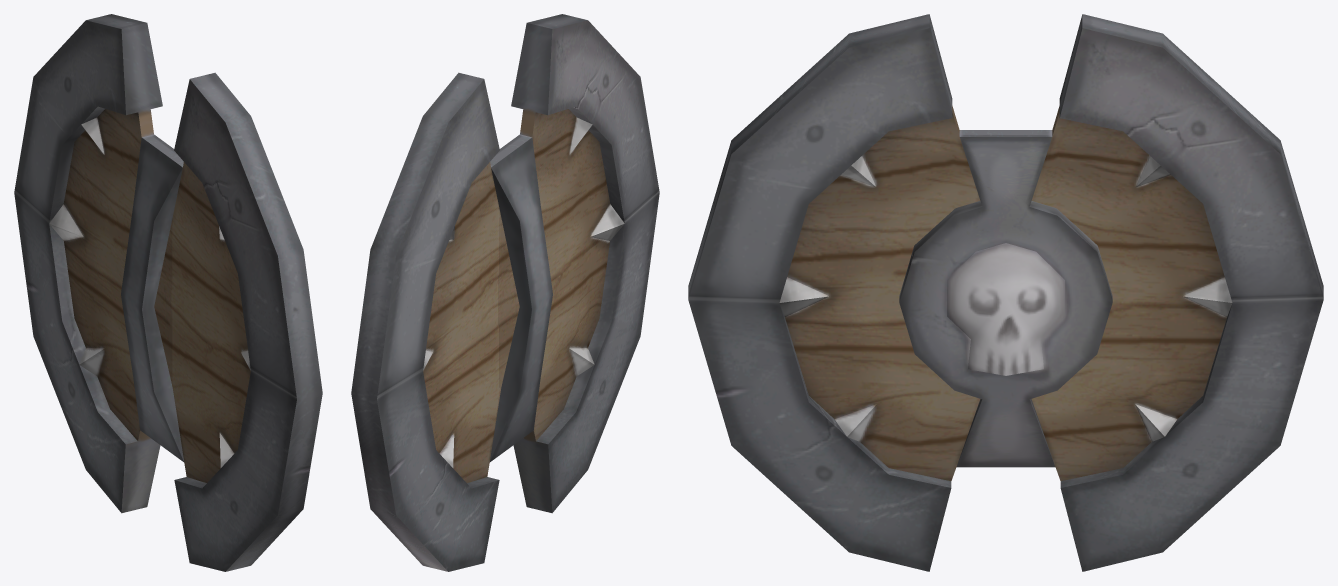
The model's file is shield-1.glb.
3 views of the same model, side by side, from view 1: azimuth 30°, elevation 25°; view 2: azimuth 150°, elevation 25°; view 3: azimuth 270°, elevation 25° (orthographic). The views are drawn at different scales.
Visible parts, largest first — view 1: shield.001_Circle; view 2: shield.001_Circle; view 3: shield.001_Circle.
Part boxes in pixels (box(x1,y1,x2,y2)): shield.001_Circle: box(14, 14, 322, 571); shield.001_Circle: box(351, 14, 659, 571); shield.001_Circle: box(688, 14, 1323, 571).
Size of the model in its own units: 0.2955 by 1.87 by 1.98.
1 material, 1 textured.
